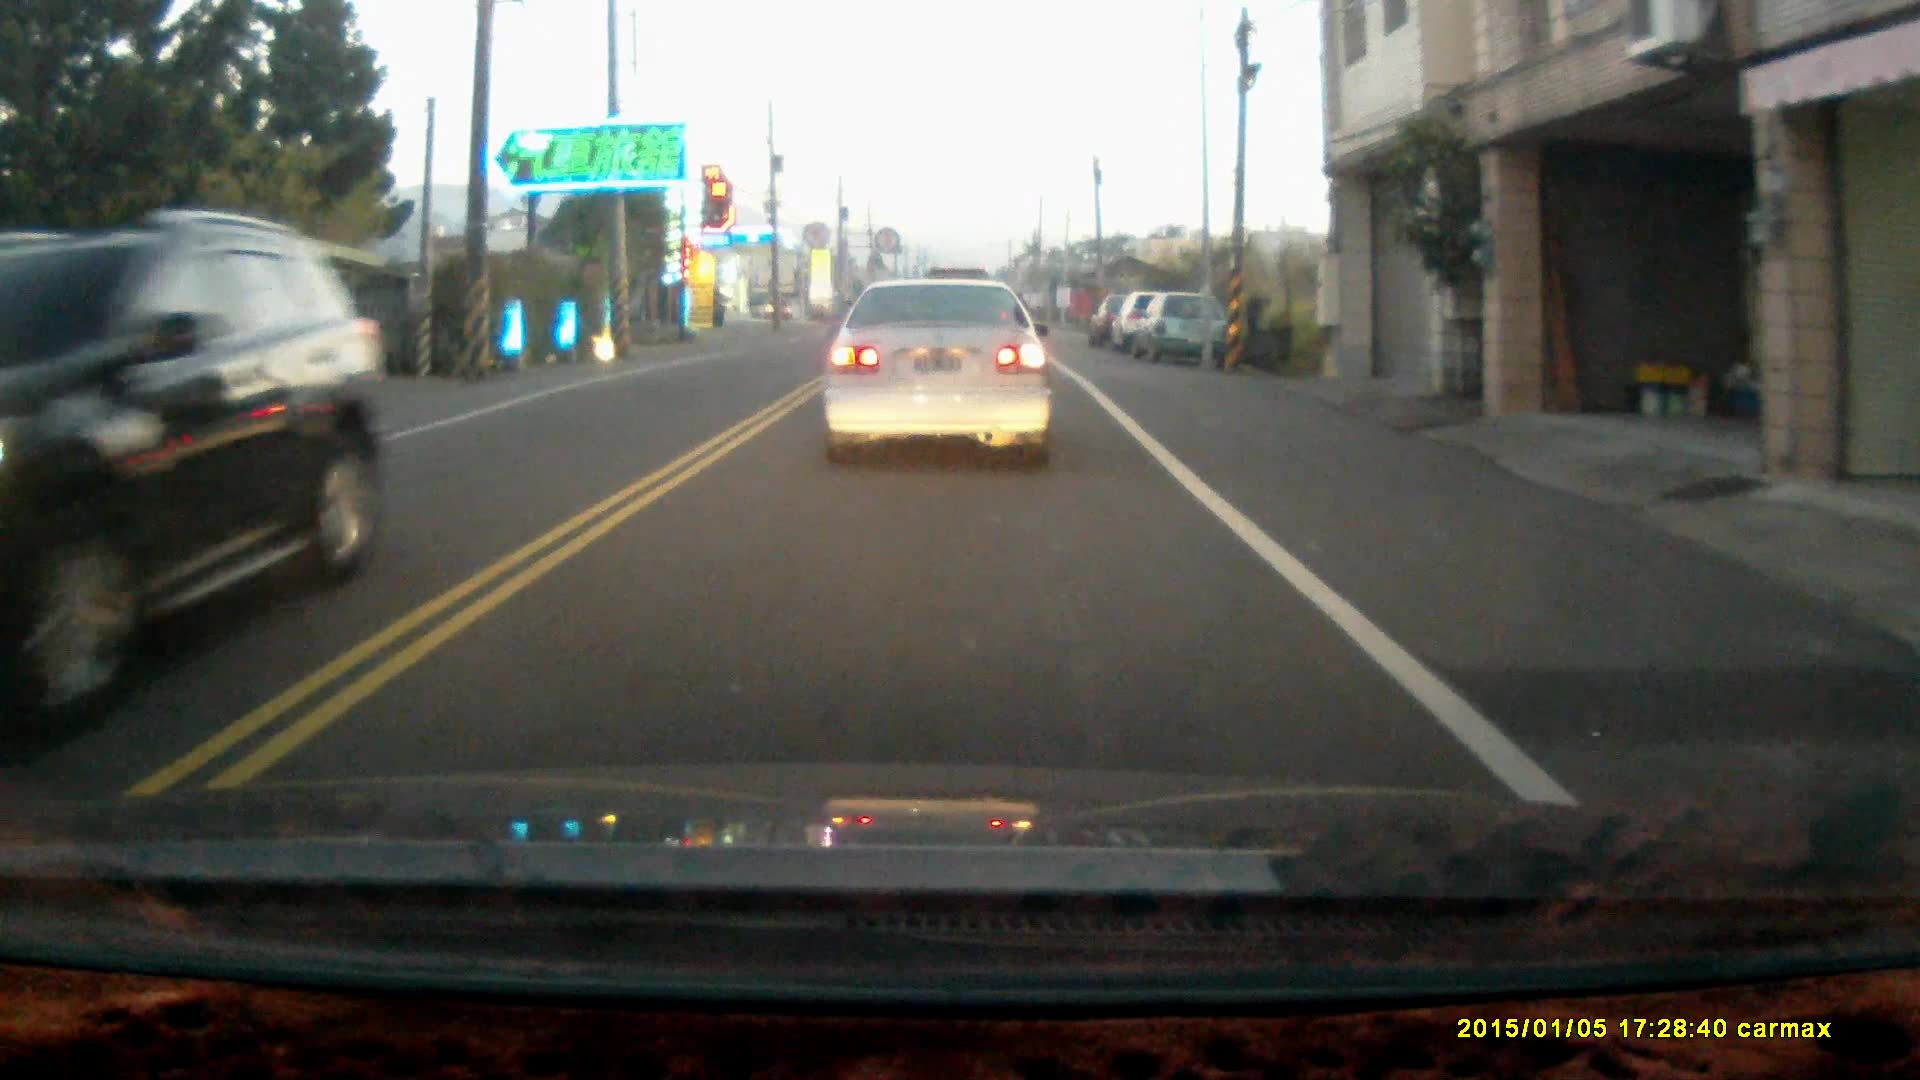vehicle: (1, 211, 392, 712), (819, 277, 1051, 467), (1129, 293, 1226, 365), (1116, 293, 1197, 352)
